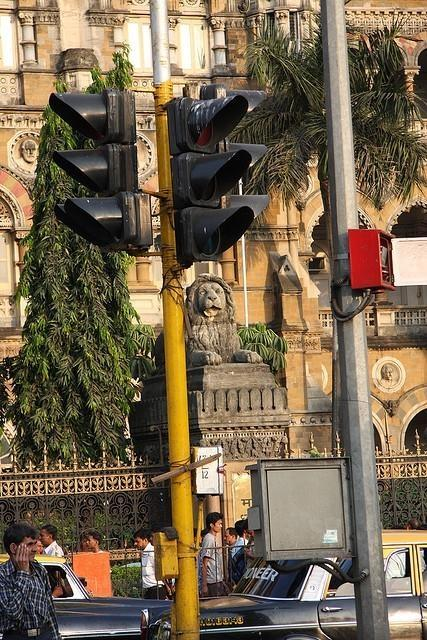car: (140, 530, 426, 639), (0, 555, 173, 640)
